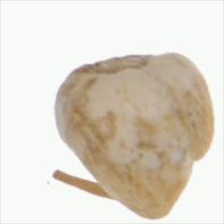L3: (151, 150, 208, 219)
L4: (54, 53, 214, 220)
